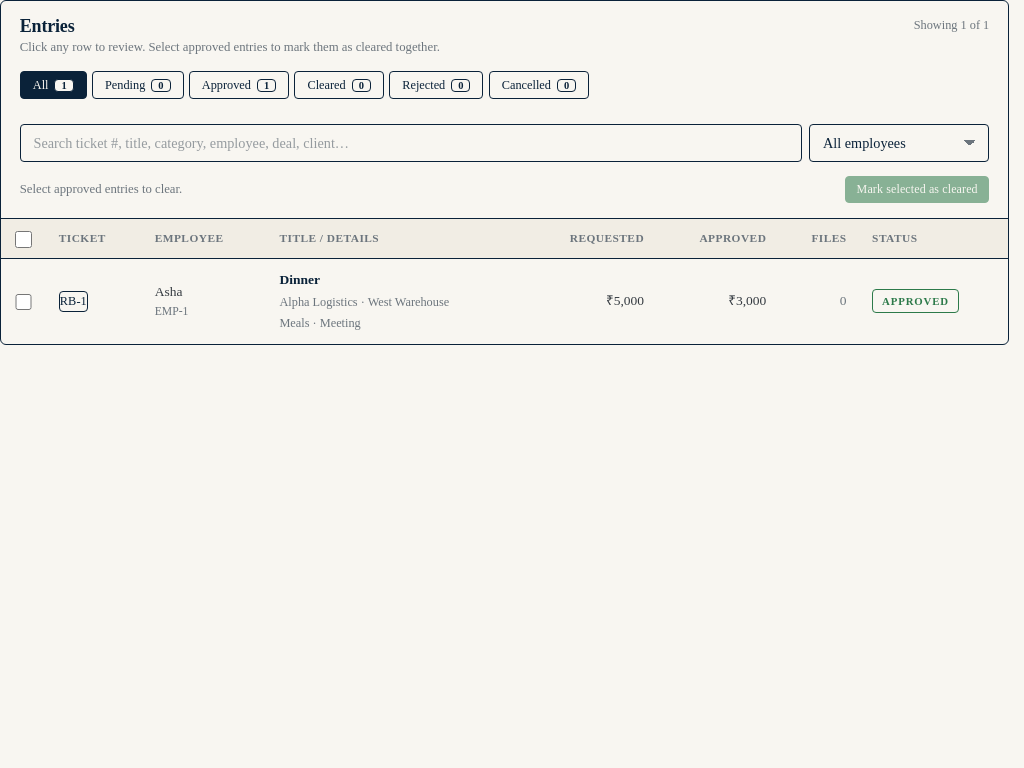
Test: maps the selected entry into a review dialog and displays sanctioned money
Expected: the row named "Click to review" shows "₹5,000", [606,293,644,308]
Expected: the row named "Click to review" shows "₹3,000", [728,293,766,308]
Click the button "RB-1" at [73, 301], box [59,291,88,312]
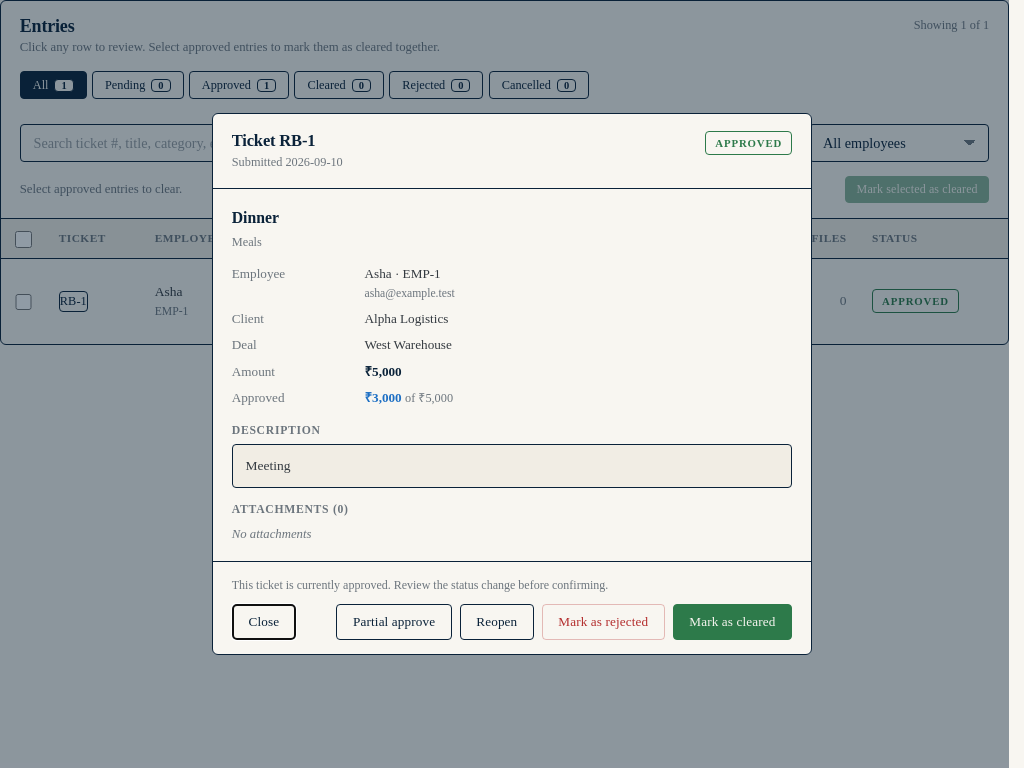
Now the heading "Ticket RB-1" is shown, box [232,131,315,150]
Now the text "Alpha Logistics" is shown, box [364,311,448,326]
Now the text "West Warehouse" is shown, box [364,338,452,352]
Click the button "Close" at [264, 622], box [232,604,296,640]
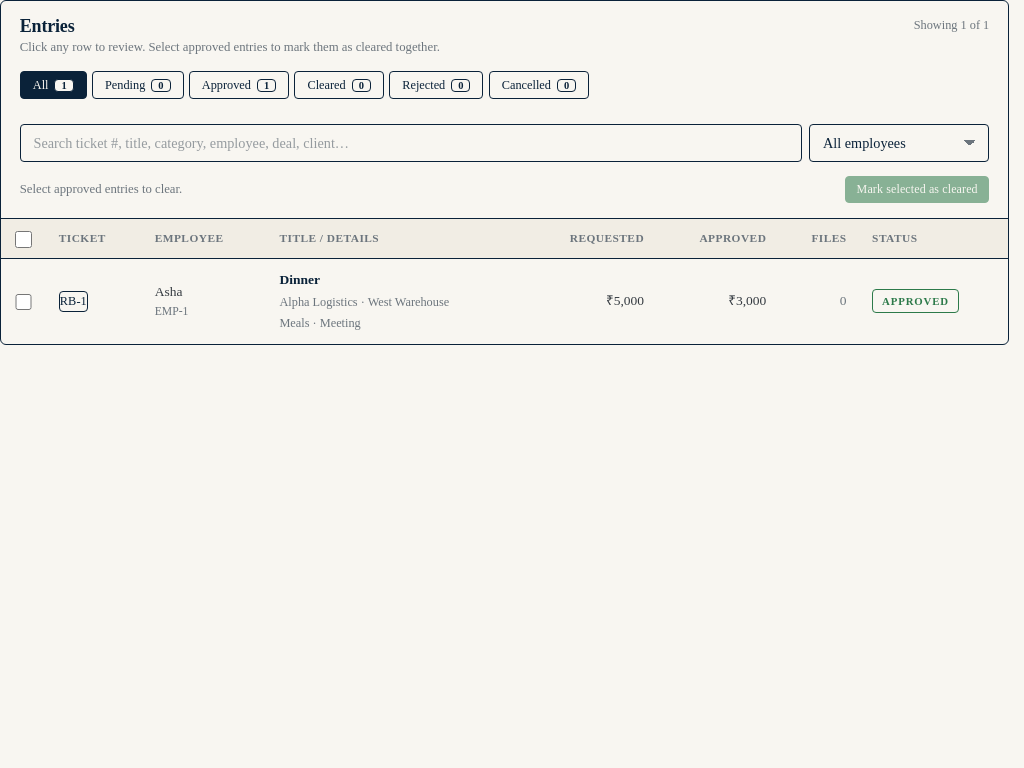
Now the dialog is gone
